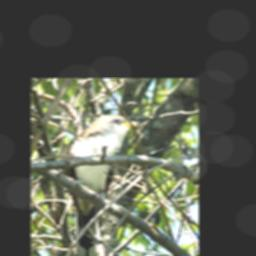Cuckoo: (61, 114, 144, 256)
